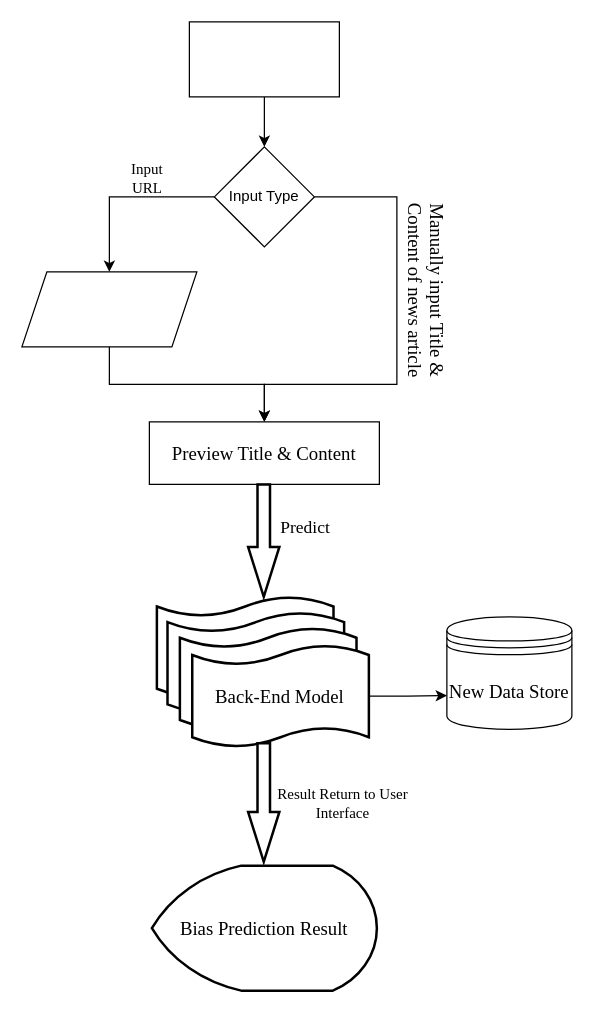
Some shapes in this 594 by 1014 pixel diagram are drawn without their labels. The box of each missing label's shape, as (x1, y1, x2, y2) in pixels:
Extract Title & Content: (21, 271, 197, 347)
Home Page for Web Application: (188, 21, 339, 97)
